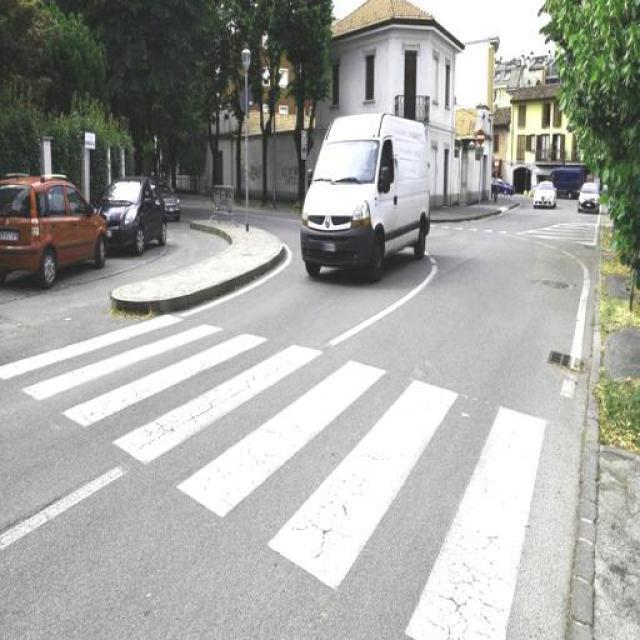crosswalk: (0, 310, 546, 640)
